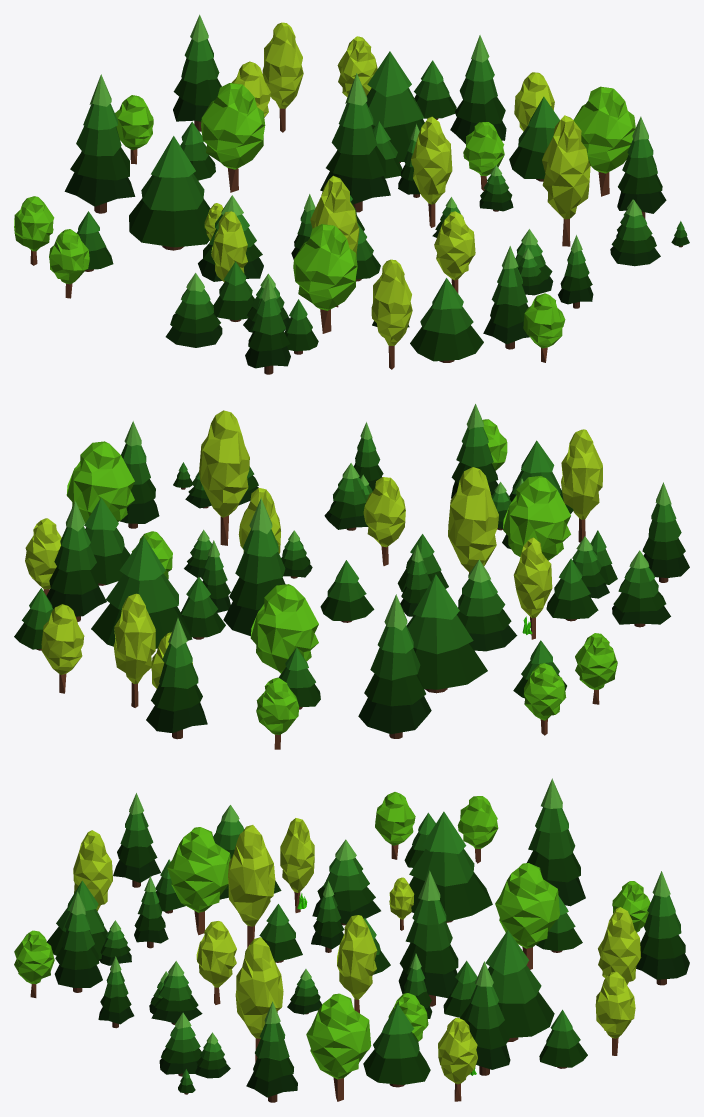
The model's file is wald_objekte.fbx.
The picture shows the model from 3 angles, top to bottom: view 1: azimuth 30°, elevation 25°; view 2: azimuth 150°, elevation 25°; view 3: azimuth 270°, elevation 25°; orthographic projection. The views are drawn at different scales.
Visible parts, largest first — view 1: Cone.087, Cone.061, Cone.012, Sphere.029, Sphere.015, Sphere.030, Sphere.023, Cone.085, Cone.084, Cone.011, Cone.082, Sphere.005 (+34 smaller); view 2: Cone.061, Cone.087, Cone.084, Sphere.023, Cone.012, Sphere.015, Cone.011, Sphere.029, Sphere.094, Cone.082, Sphere.030, Cone.001 (+33 smaller); view 3: Cone.087, Cone.084, Cone.012, Sphere.030, Sphere.029, Sphere.015, Cone.061, Sphere.094, Cone.011, Sphere.023, Cone.009, Cone.082 (+34 smaller).
Part boxes in pixels (bbox=[...]): Cone.087: bbox=[129, 136, 210, 250]; Cone.061: bbox=[64, 74, 135, 213]; Cone.012: bbox=[320, 73, 390, 212]; Sphere.029: bbox=[293, 224, 357, 333]; Sphere.015: bbox=[201, 83, 265, 192]; Sphere.030: bbox=[573, 86, 635, 196]; Sphere.023: bbox=[542, 115, 590, 246]; Cone.085: bbox=[410, 278, 483, 362]; Cone.084: bbox=[366, 51, 424, 162]; Cone.011: bbox=[173, 14, 221, 131]; Cone.082: bbox=[450, 35, 506, 143]; Sphere.005: bbox=[411, 116, 452, 227]; Cone.061: bbox=[358, 594, 431, 738]; Cone.087: bbox=[406, 574, 487, 693]; Cone.084: bbox=[91, 536, 192, 648]; Sphere.023: bbox=[199, 410, 249, 545]; Cone.012: bbox=[223, 498, 285, 636]; Sphere.015: bbox=[250, 584, 318, 673]; Cone.011: bbox=[146, 617, 207, 739]; Sphere.029: bbox=[503, 476, 570, 560]; Sphere.094: bbox=[448, 467, 498, 573]; Cone.082: bbox=[46, 501, 106, 621]; Sphere.030: bbox=[66, 441, 134, 523]; Cone.001: bbox=[457, 559, 517, 651]; Cone.087: bbox=[409, 811, 492, 922]; Cone.084: bbox=[460, 930, 554, 1042]; Cone.012: bbox=[398, 870, 458, 1006]; Sphere.030: bbox=[306, 993, 371, 1101]; Sphere.029: bbox=[167, 827, 230, 935]; Sphere.015: bbox=[495, 863, 559, 969]; Cone.061: bbox=[527, 778, 585, 906]; Sphere.094: bbox=[228, 825, 275, 947]; Cone.011: bbox=[636, 871, 689, 985]; Sphere.023: bbox=[235, 937, 283, 1062]; Cone.009: bbox=[363, 1004, 430, 1087]; Cone.082: bbox=[465, 961, 510, 1075].
Size of the model in its own units: 138 by 33.82 by 149.
